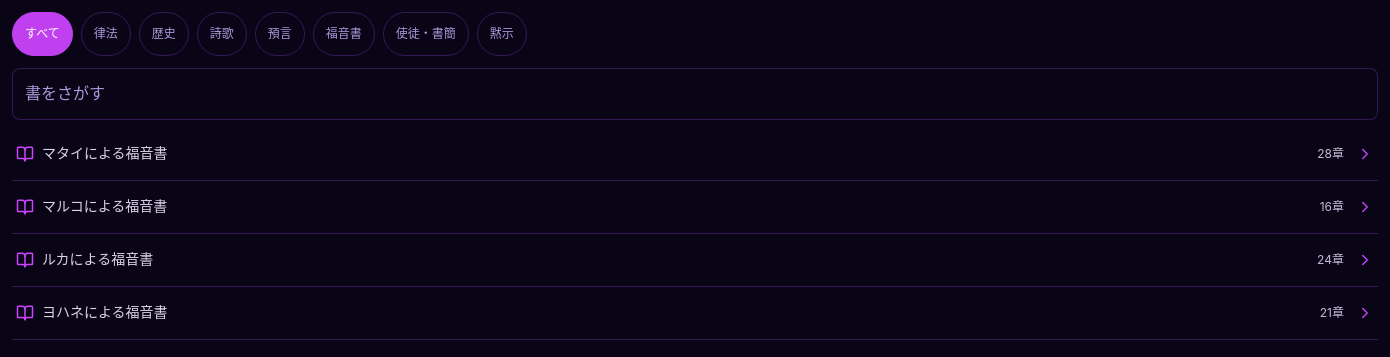
章を選ぶところ › 書を選ぶと、章が書き出しつきで1行1章で並ぶ
Type "マルコ" into the search field with placeholder "書をさがす".
click(695, 94); type("マルコ")  # box [12,68,1378,120]
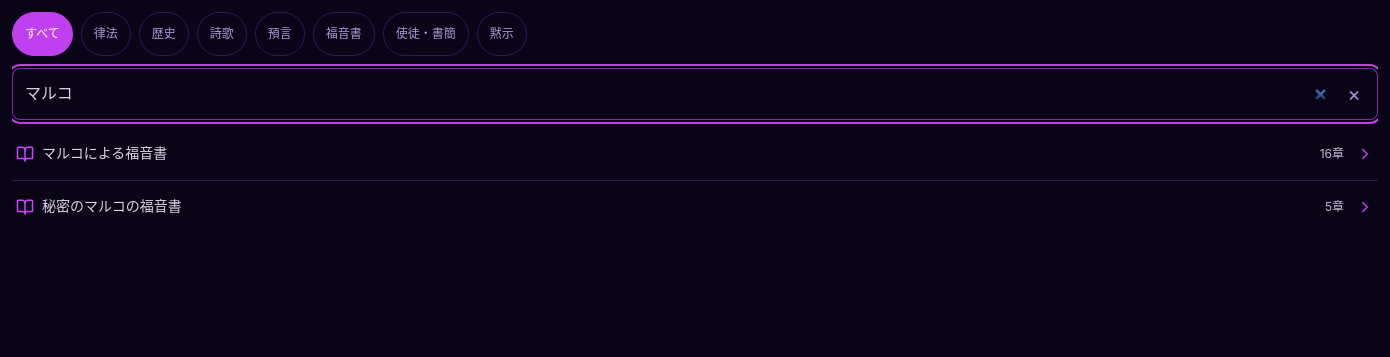
Click the button "マルコによる福音書".
click(105, 153)  # box [16,132,1308,176]
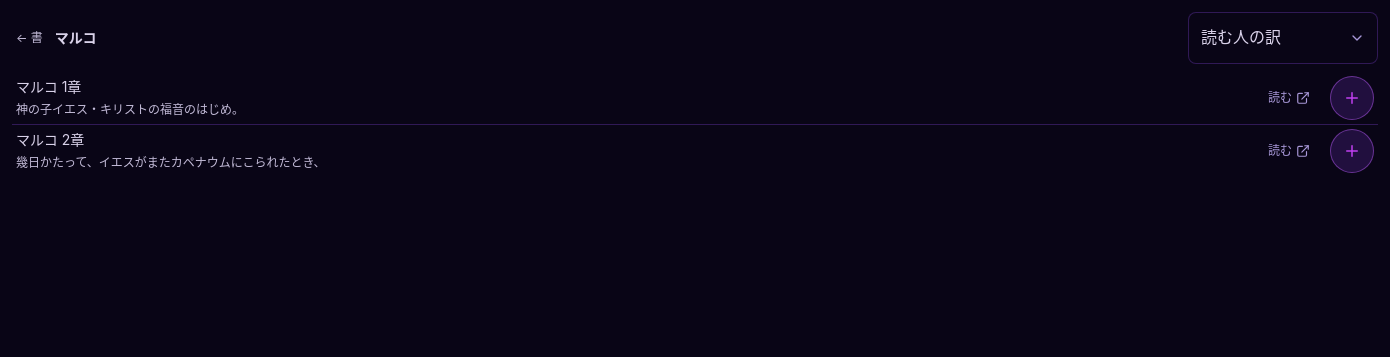
Check: the text "神の子イエス・キリストの福音のはじめ。" is shown, box [16,102,244,117]
